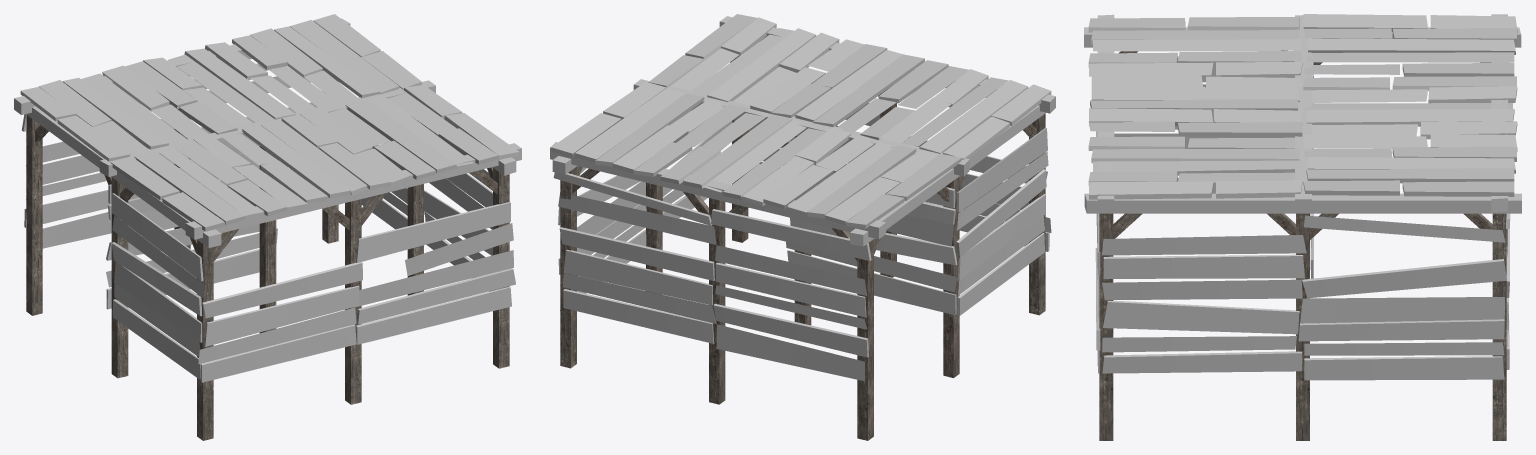
The model's file is Shed5_LOD1.fbx.
3 renders of one model, left to right at view 1: azimuth 30°, elevation 25°; view 2: azimuth 150°, elevation 25°; view 3: azimuth 270°, elevation 25°, orthographic. The views are drawn at different scales.
Visible parts, largest first — view 1: polySurface2650; view 2: polySurface2650; view 3: polySurface2650.
Part boxes in pixels (left/top/right/bottom): polySurface2650: left=14, top=14, right=521, bottom=440; polySurface2650: left=550, top=14, right=1055, bottom=440; polySurface2650: left=1084, top=14, right=1521, bottom=440.
Size of the model in its own units: 7.08 by 4.5 by 7.08.
